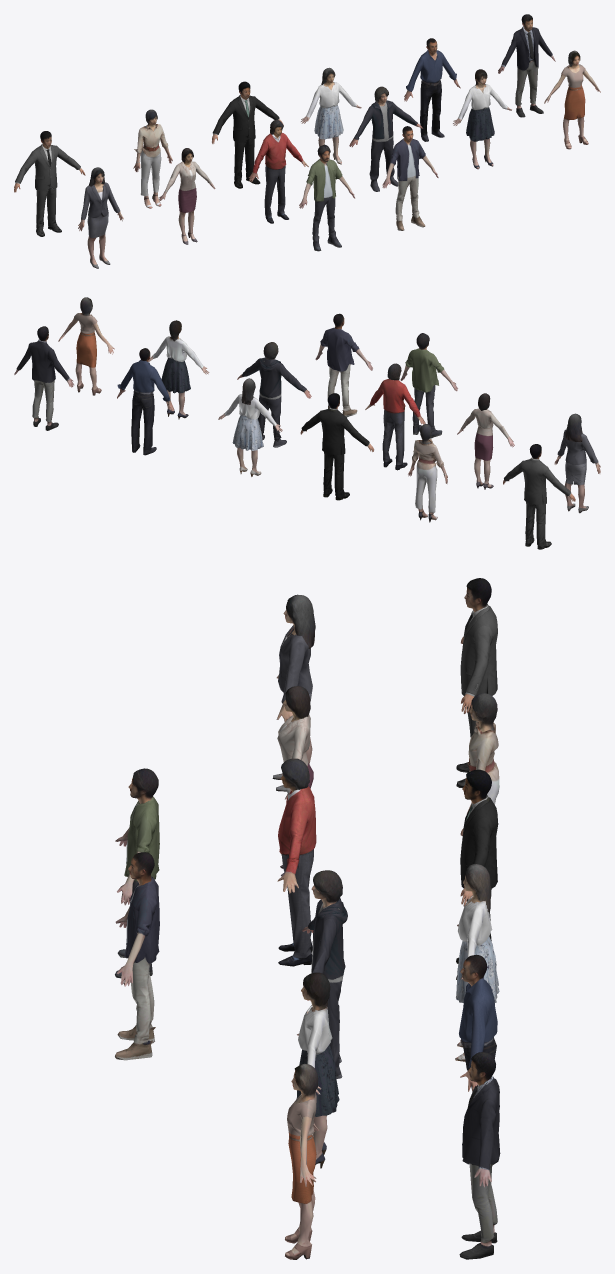
File: Citizen NPC.fbx
The picture shows the model from 3 angles, top to bottom: view 1: azimuth 30°, elevation 25°; view 2: azimuth 150°, elevation 25°; view 3: azimuth 270°, elevation 25°; orthographic projection. The views are drawn at different scales.
Parts seen in each view (by area): view 1: Citizen 00amza_004, Citizen 00amza_001, Citizen 00amza_003, Citizen 00amza_011, Citizen 00amza_010, Citizen 00amza_006, Citizen 00amza_012, Citizen 00amza_008, Citizen 00amza_002, Citizen 00amza_005, Citizen 00amza_007, Citizen 00amza_014 (+2 smaller); view 2: Citizen 00amza_004, Citizen 00amza_011, Citizen 00amza_001, Citizen 00amza_006, Citizen 00amza_008, Citizen 00amza_003, Citizen 00amza_007, Citizen 00amza_010, Citizen 00amza_012, Citizen 00amza_005, Citizen 00amza_002, Citizen 00amza_014 (+2 smaller); view 3: Citizen 00amza_012, Citizen 00amza_006, Citizen 00amza_008, Citizen 00amza_009, Citizen 00amza_003, Citizen 00amza_002, Citizen 00amza_001, Citizen 00amza_007, Citizen 00amza_004, Citizen 00amza_011, Citizen 00amza_010, Citizen 00amza_005 (+2 smaller).
Part boxes in pixels (x1,y1,x2,y2): Citizen 00amza_004: [212, 81, 283, 188]; Citizen 00amza_001: [14, 131, 85, 236]; Citizen 00amza_003: [349, 86, 423, 191]; Citizen 00amza_011: [404, 38, 460, 141]; Citizen 00amza_010: [299, 144, 355, 251]; Citizen 00amza_006: [249, 119, 308, 223]; Citizen 00amza_012: [382, 126, 438, 230]; Citizen 00amza_008: [498, 14, 555, 117]; Citizen 00amza_002: [453, 69, 511, 169]; Citizen 00amza_005: [78, 167, 123, 268]; Citizen 00amza_007: [301, 67, 361, 164]; Citizen 00amza_014: [133, 109, 172, 208]; Citizen 00amza_004: [300, 393, 374, 500]; Citizen 00amza_011: [117, 348, 174, 455]; Citizen 00amza_001: [503, 444, 575, 549]; Citizen 00amza_006: [365, 363, 425, 470]; Citizen 00amza_008: [14, 326, 74, 430]; Citizen 00amza_003: [237, 342, 311, 447]; Citizen 00amza_007: [218, 378, 282, 476]; Citizen 00amza_010: [400, 333, 457, 438]; Citizen 00amza_012: [315, 313, 372, 417]; Citizen 00amza_005: [554, 413, 600, 513]; Citizen 00amza_002: [148, 320, 209, 419]; Citizen 00amza_014: [408, 424, 447, 522]; Citizen 00amza_012: [115, 852, 159, 1060]; Citizen 00amza_006: [277, 758, 316, 966]; Citizen 00amza_008: [459, 1052, 500, 1259]; Citizen 00amza_009: [285, 1063, 318, 1259]; Citizen 00amza_003: [302, 870, 347, 1078]; Citizen 00amza_002: [296, 972, 339, 1168]; Citizen 00amza_001: [456, 578, 497, 787]; Citizen 00amza_007: [455, 864, 499, 1061]; Citizen 00amza_004: [456, 769, 498, 979]; Citizen 00amza_011: [459, 954, 497, 1164]; Citizen 00amza_010: [115, 768, 159, 978]; Citizen 00amza_005: [272, 594, 315, 791].
Bounding box in the file's own units: 1094 × 194 × 334.
Materials: 28 (28 with a texture image).
